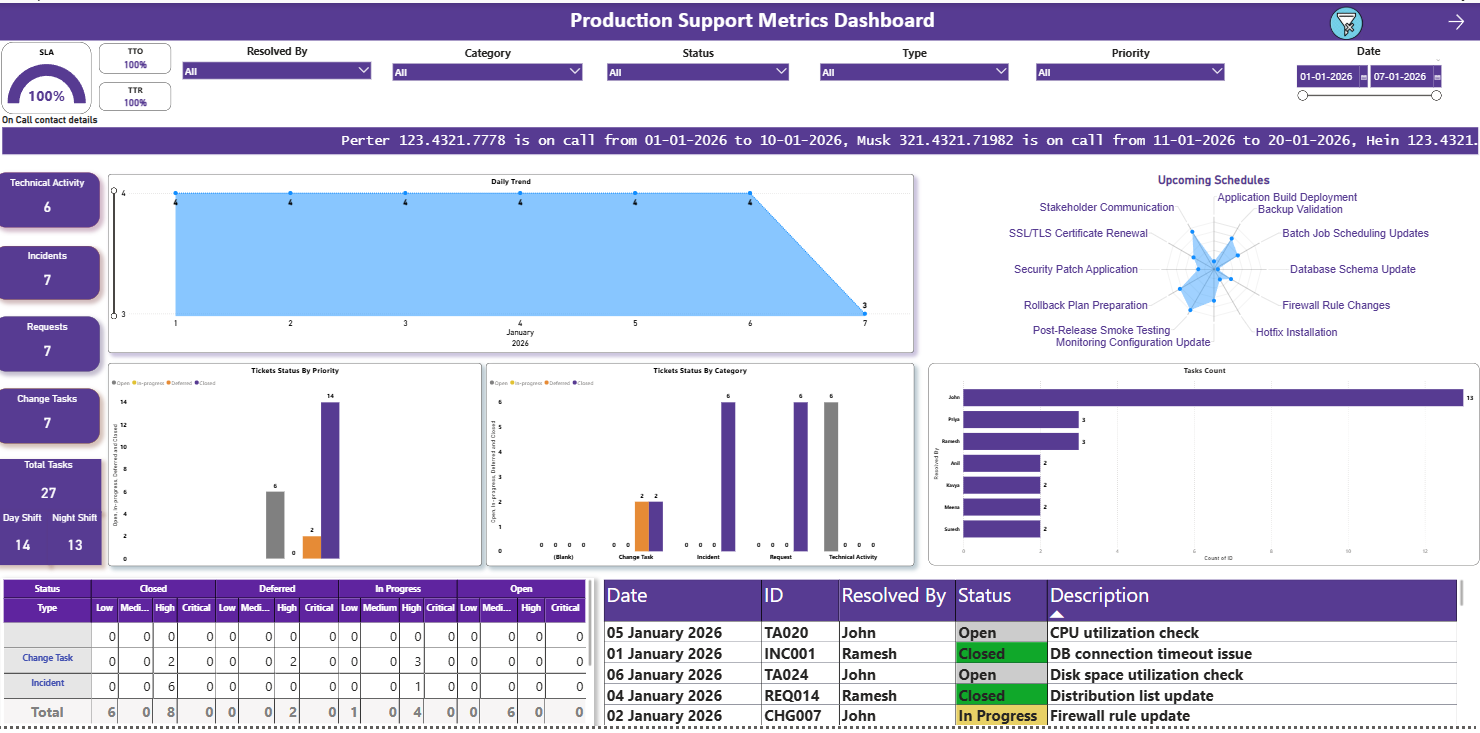

The page's visual inventory and layout, read from the dashboard file:
{"tool":"powerbi","page":{"name":"Dashboard","canvas":[3700,1800],"ordinal":0},"visuals":[{"type":"textbox","box":[13.3,0,3733.3,93.3],"z":0},{"type":"card","title":"Incidents","fields":{"Values":["Daily Tasks.Incidents"]},"box":[0,603.3,263.3,133.3],"z":1000},{"type":"card","title":"Change Tasks","fields":{"Values":["Daily Tasks.Change Tasks"]},"box":[0,960,263.3,136.7],"z":2000},{"type":"card","title":"Requests","fields":{"Values":["Daily Tasks.Requests"]},"box":[0,780,263.3,136.7],"z":3000},{"type":"areaChart","title":"Daily Trend","fields":{"Y":["CountNonNull(Daily Tasks (2).ID)"],"Category":["Daily Tasks.Date.Variation.Date Hierarchy.Year","Daily Tasks.Date.Variation.Date Hierarchy.Month","Daily Tasks.Date.Variation.Date Hierarchy.Day"]},"box":[285,425,2005,445],"z":4000},{"type":"clusteredBarChart","title":"Tasks Count","fields":{"Category":["Daily Tasks.Resolved By"],"Y":["CountNonNull(Daily Tasks.ID)"]},"box":[2326.7,896.7,1373.3,503.3],"z":5000},{"type":"tableEx","fields":{"Values":["Daily Tasks.Date","Daily Tasks.ID","Daily Tasks.Resolved By","Daily Tasks.Status","Daily Tasks.Description "]},"box":[1510.8,1428.6,2149.7,369.7],"z":6000},{"type":"gauge","title":"SLA","fields":{"Y":["Sum(SLA.SLA)"]},"box":[17.5,96.3,223.2,179.5],"z":7000},{"type":"slicer","title":"Category","fields":{"Values":["Daily Tasks (2).Category"]},"box":[976.7,100,500,140],"z":8000},{"type":"actionButton","box":[3613.3,23.3,86.7,50],"z":9000},{"type":"card","title":"Technical Activity ","fields":{"Values":["Daily Tasks.Technical Activity"]},"box":[0,423.3,263.3,136.7],"z":10000},{"type":"card","title":"TTO","fields":{"Values":["Sum(Daily Tasks (2).TTO)"]},"box":[262.6,100.7,179.5,74.4],"z":11000},{"type":"card","title":"TTR ","fields":{"Values":["Sum(Daily Tasks (2).TTR)"]},"box":[262.6,197,179.5,70],"z":12000},{"type":"image","box":[3316.7,0,93.3,100],"z":13000},{"type":"slicer","title":"Date","fields":{"Values":["Daily Tasks (2).Date"]},"box":[3225.8,96.3,389.6,157.6],"z":14000},{"type":"slicer","title":"Resolved By","fields":{"Values":["Daily Tasks (2).Resolved By"]},"box":[456.7,96.7,496.7,140],"z":15000},{"type":"slicer","title":"Status","fields":{"Values":["Daily Tasks (2).Status"]},"box":[1510,100,480,140],"z":16000},{"type":"slicer","title":"Type","fields":{"Values":["Daily Tasks (2).Type"]},"box":[2040,100,496.7,140],"z":17000},{"type":"card","title":"Total Tasks","fields":{"Values":["CountNonNull(Daily Tasks.ID)"]},"box":[3.3,1133.3,263.3,133.3],"z":18000},{"type":"card","title":"Day Shift","fields":{"Values":["CountNonNull(Daily Tasks.Shift)"]},"box":[3.3,1266.7,133.3,133.3],"z":19000},{"type":"card","title":"Night Shift","fields":{"Values":["CountNonNull(Daily Tasks.Shift)"]},"box":[133.3,1266.7,133.3,133.3],"z":20000},{"type":"ScrollingTextVisual1448795304508","title":"On Call contact details","fields":{"Category":["On-Call Details (2).Column1"],"Measure Absolute":["CountNonNull(On-Call Details (2).Column1)"]},"box":[13.1,275.8,3685.4,105],"z":21000},{"type":"RadarChart1446119667547","title":"Upcoming Schedules","fields":{"Category":["Upcoming Activity (2).Column2"],"Y":["Sum(Upcoming Activity (2).Column1)"]},"box":[2326.7,423.3,1420,446.7],"z":22000},{"type":"slicer","title":"Priority","fields":{"Values":["Daily Tasks.Priority"]},"box":[2580,100,496.7,140],"z":23000},{"type":"clusteredColumnChart","title":"Tickets Status By Priority ","fields":{"Y":["Daily Tasks.Open","Daily Tasks.In-progress","Daily Tasks.Deferred","Daily Tasks.Closed"]},"box":[285,895,930,505],"z":24000},{"type":"clusteredColumnChart","title":"Tickets Status By Category","fields":{"Category":["Daily Tasks.Type"],"Y":["Daily Tasks.Open","Daily Tasks.In-progress","Daily Tasks.Deferred","Daily Tasks.Closed"]},"box":[1225,895,1065,505],"z":25000},{"type":"pivotTable","fields":{"Rows":["Daily Tasks.Type"],"Values":["Daily Tasks.Low","Daily Tasks.Medium","Daily Tasks.High","Daily Tasks.Critical"],"Columns":["Status.Status"]},"box":[17.3,1427.8,1473.9,368.5],"z":26000}]}

Visuals, with their boxes in screenshot pixels (x1, y1, x2, y2), scaled from the page's 3700x1800 canvas onto the 1480x733 screenshot:
textbox: bbox(5, 0, 1479, 38)
"Incidents" card: bbox(0, 246, 105, 300)
"Change Tasks" card: bbox(0, 391, 105, 447)
"Requests" card: bbox(0, 318, 105, 373)
"Daily Trend" areaChart: bbox(114, 173, 916, 354)
"Tasks Count" clusteredBarChart: bbox(931, 365, 1479, 570)
tableEx - Daily Tasks.Date x Daily Tasks.ID: bbox(604, 582, 1464, 732)
"SLA" gauge: bbox(7, 39, 96, 112)
"Category" slicer: bbox(391, 41, 591, 98)
actionButton: bbox(1445, 9, 1479, 30)
"Technical Activity " card: bbox(0, 172, 105, 228)
"TTO" card: bbox(105, 41, 177, 71)
"TTR " card: bbox(105, 80, 177, 109)
image: bbox(1327, 0, 1364, 41)
"Date" slicer: bbox(1290, 39, 1446, 103)
"Resolved By" slicer: bbox(183, 39, 381, 96)
"Status" slicer: bbox(604, 41, 796, 98)
"Type" slicer: bbox(816, 41, 1015, 98)
"Total Tasks" card: bbox(1, 462, 107, 516)
"Day Shift" card: bbox(1, 516, 55, 570)
"Night Shift" card: bbox(53, 516, 107, 570)
"On Call contact details" ScrollingTextVisual1448795304508: bbox(5, 112, 1479, 155)
"Upcoming Schedules" RadarChart1446119667547: bbox(931, 172, 1479, 354)
"Priority" slicer: bbox(1032, 41, 1231, 98)
"Tickets Status By Priority " clusteredColumnChart: bbox(114, 364, 486, 570)
"Tickets Status By Category" clusteredColumnChart: bbox(490, 364, 916, 570)
pivotTable - Daily Tasks.Type x Daily Tasks.Low: bbox(7, 581, 596, 731)
